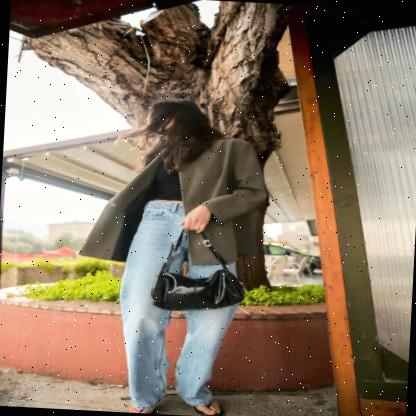bag: (150, 217, 250, 315)
person: (101, 94, 275, 416)
